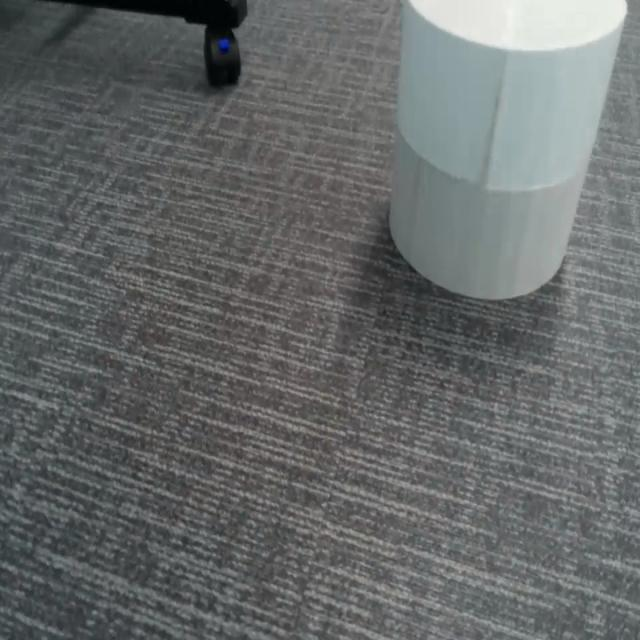cylinder: (387, 0, 627, 309)
